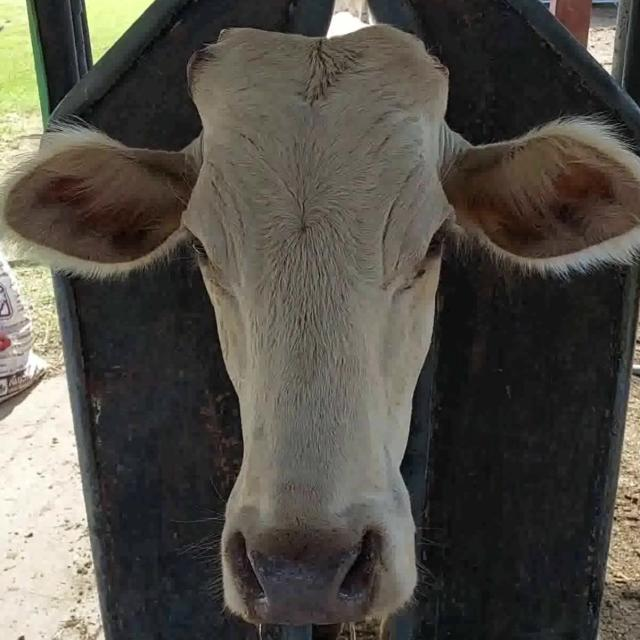cowFace: (190, 16, 452, 619)
